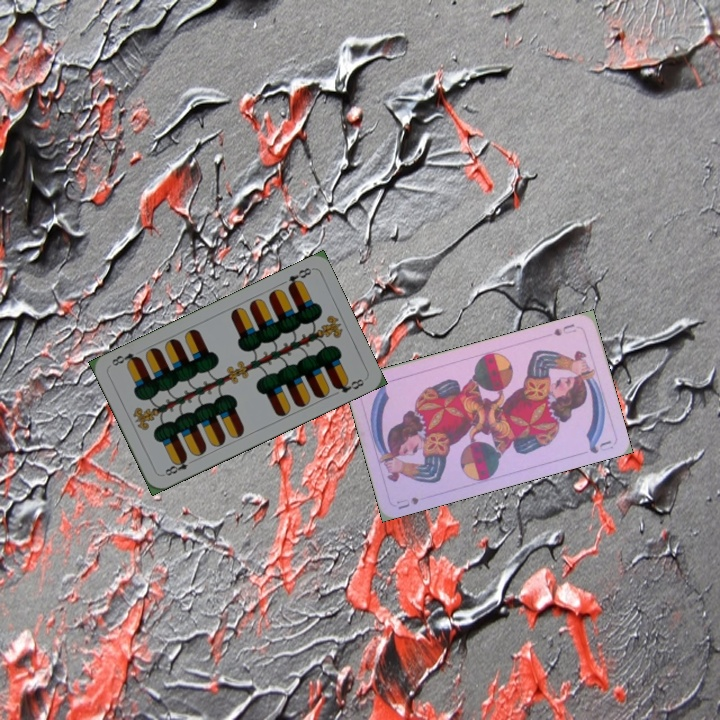E8: (283, 263, 314, 292), (159, 452, 191, 478)
SU: (392, 492, 421, 512), (550, 320, 579, 338)
